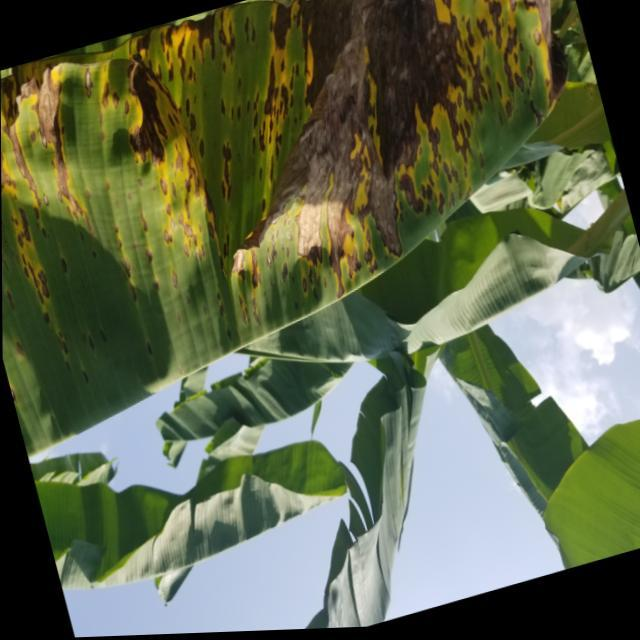Early_rust: (0, 0, 601, 428)
